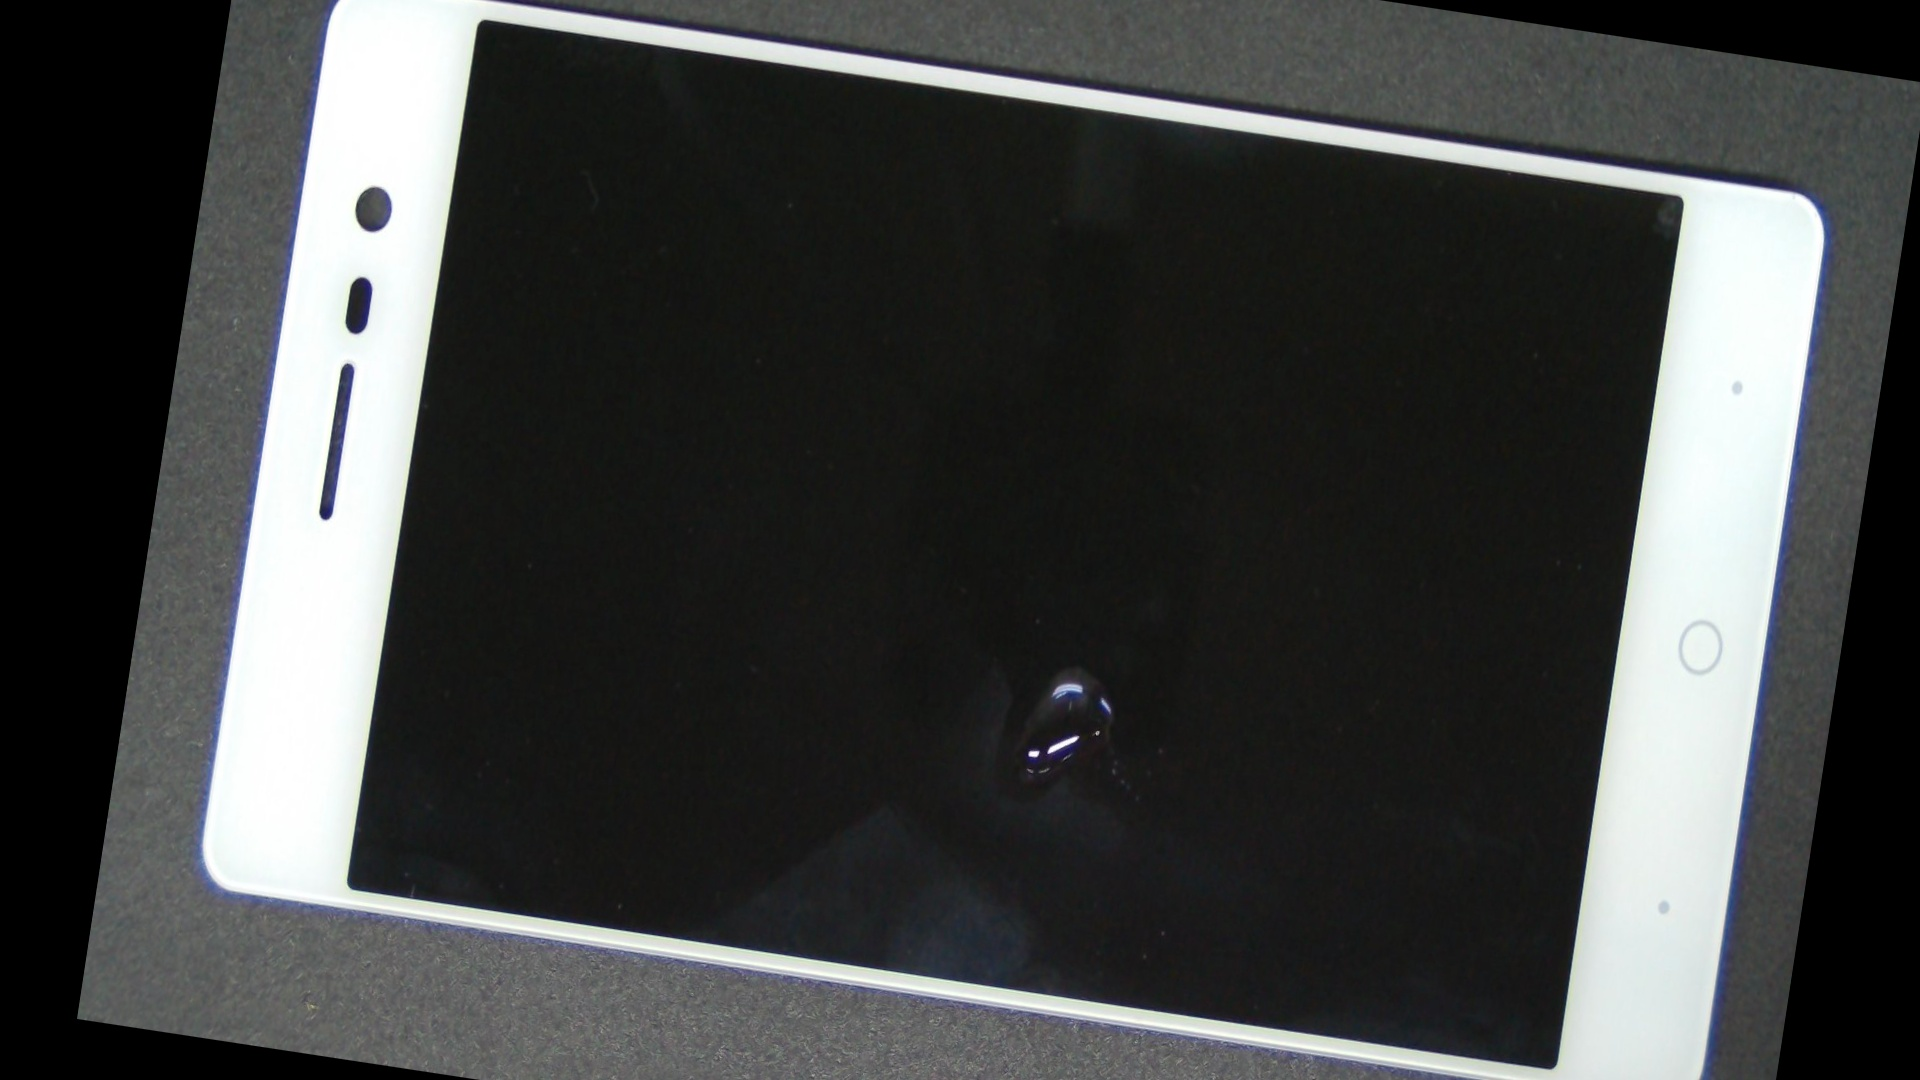oil: (562, 248, 1589, 1080)
